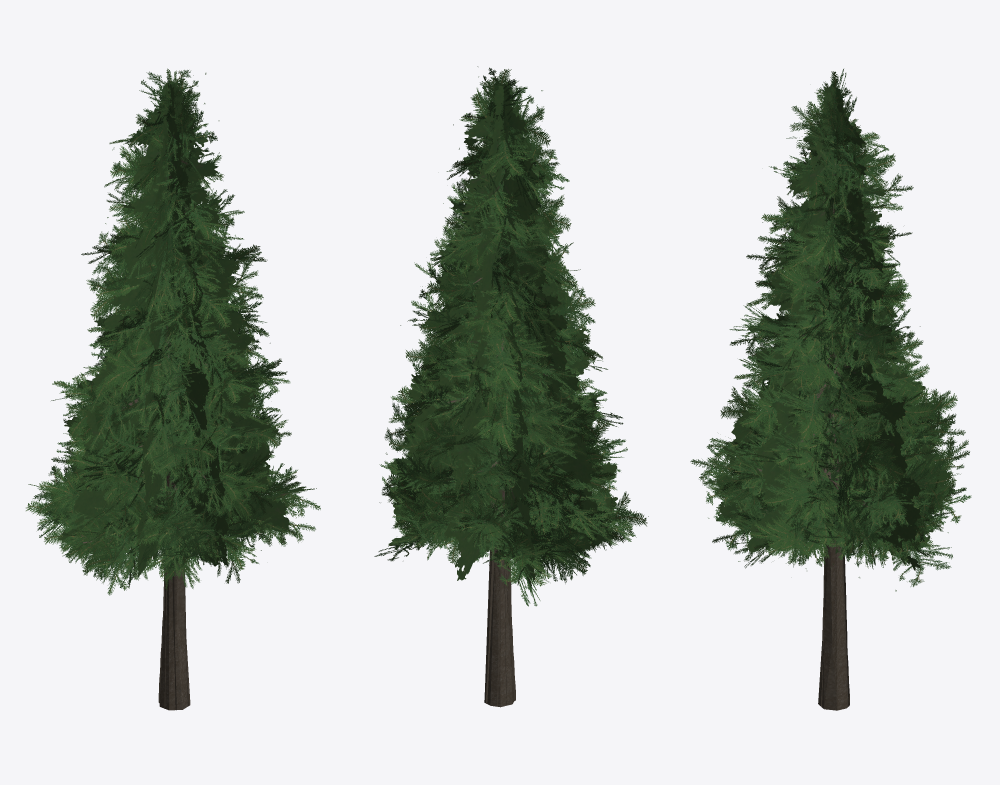
Rendered from tree_spruce_large.dae.
3 views of the same model, side by side, from view 1: azimuth 30°, elevation 25°; view 2: azimuth 150°, elevation 25°; view 3: azimuth 270°, elevation 25° (orthographic).
Parts seen in each view (by area): view 1: tree_spruce_large_a2500, tree_spruce_large_a80; view 2: tree_spruce_large_a2500, tree_spruce_large_a80; view 3: tree_spruce_large_a2500, tree_spruce_large_a80.
Boxes of the visible parts, x1,y1,x2,y2 form: tree_spruce_large_a2500: [26, 68, 320, 710]; tree_spruce_large_a80: [50, 81, 289, 710]; tree_spruce_large_a2500: [374, 66, 648, 707]; tree_spruce_large_a80: [388, 80, 617, 706]; tree_spruce_large_a2500: [690, 69, 971, 710]; tree_spruce_large_a80: [716, 84, 954, 707].
Bounding box in the file's own units: 13.78 × 13.94 × 33.48.
3 materials, 3 textured.
